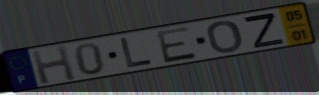0: (72, 42, 108, 76)
E: (154, 25, 200, 65)
H: (29, 43, 79, 86)
L: (119, 36, 156, 70)
O: (205, 19, 245, 54)
Z: (240, 11, 287, 50)
